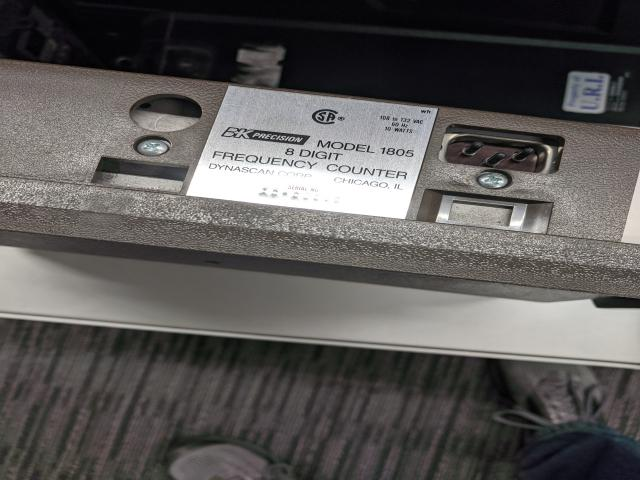CRS: (472, 168, 514, 192), (132, 137, 174, 156)
